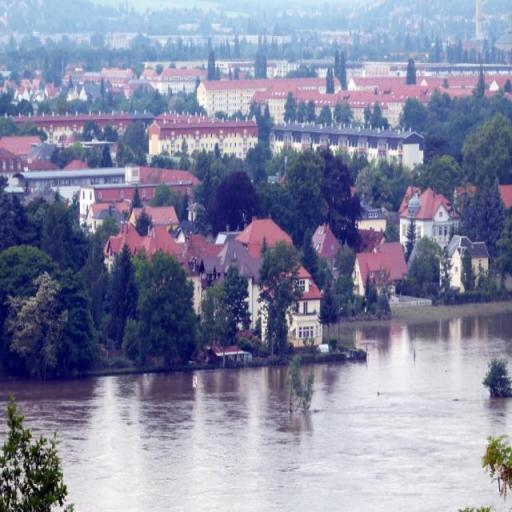flood: (0, 314, 512, 512)
house: (270, 124, 425, 175), (152, 109, 259, 167), (81, 164, 201, 202), (148, 120, 260, 156), (401, 186, 461, 239), (290, 260, 324, 346), (358, 240, 406, 300), (102, 219, 178, 256), (144, 62, 206, 105), (197, 76, 256, 112), (449, 236, 492, 285), (240, 218, 294, 256), (0, 132, 42, 178), (308, 219, 340, 273), (208, 52, 254, 80), (252, 90, 290, 119), (130, 207, 179, 225), (359, 204, 388, 232), (70, 81, 98, 101), (346, 78, 380, 92)
